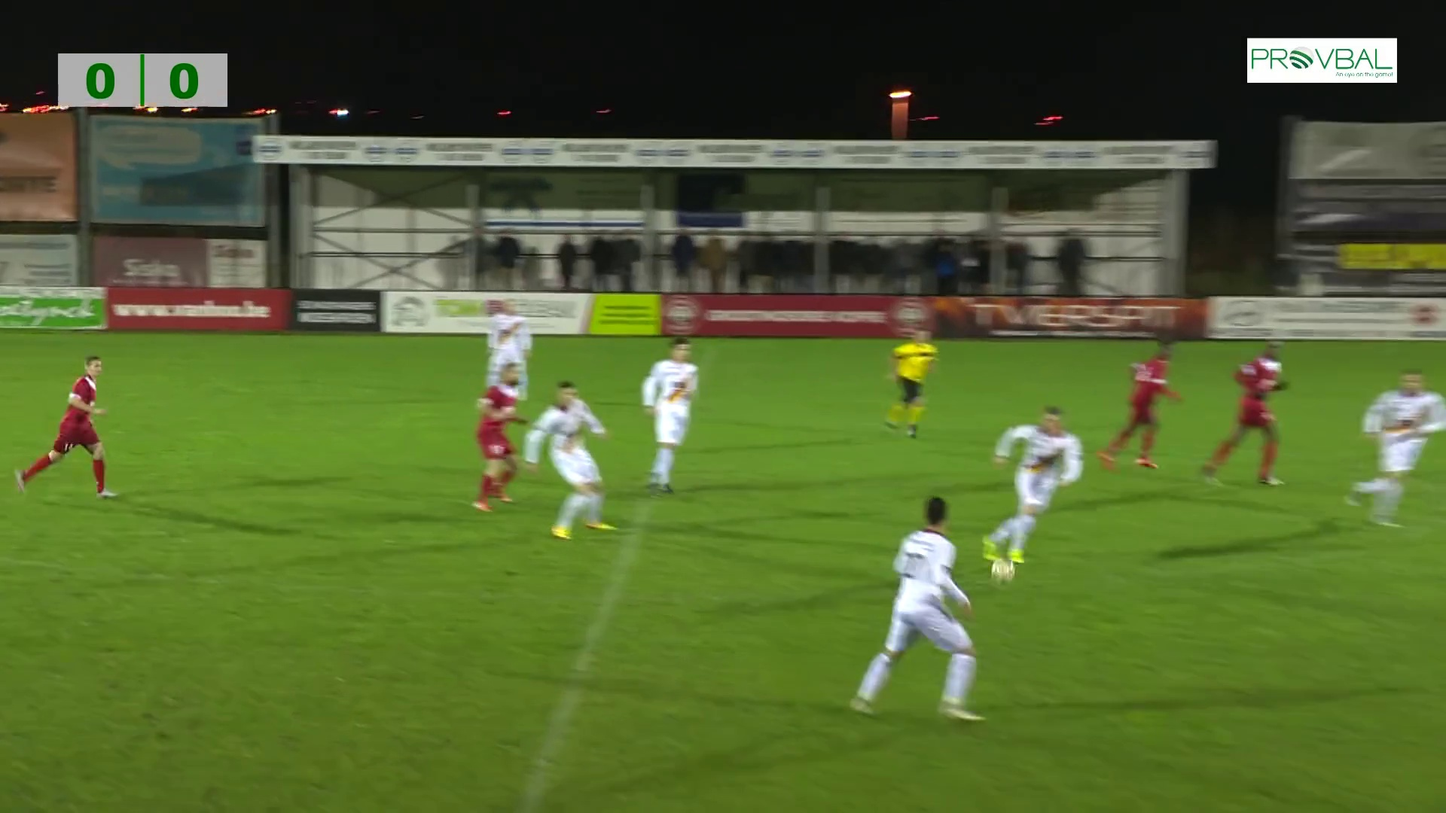red_team: (13, 346, 124, 501), (1204, 327, 1293, 492), (1100, 321, 1179, 470), (467, 361, 534, 516)
referee: (882, 321, 948, 434)
white_team: (850, 483, 995, 726), (983, 403, 1088, 571), (1350, 349, 1442, 535), (520, 376, 621, 541), (639, 334, 705, 500), (479, 295, 535, 402)
